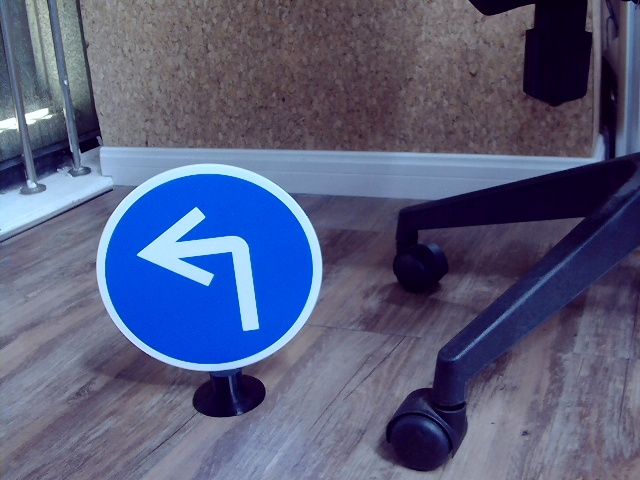turn_left: (138, 199, 267, 335)
